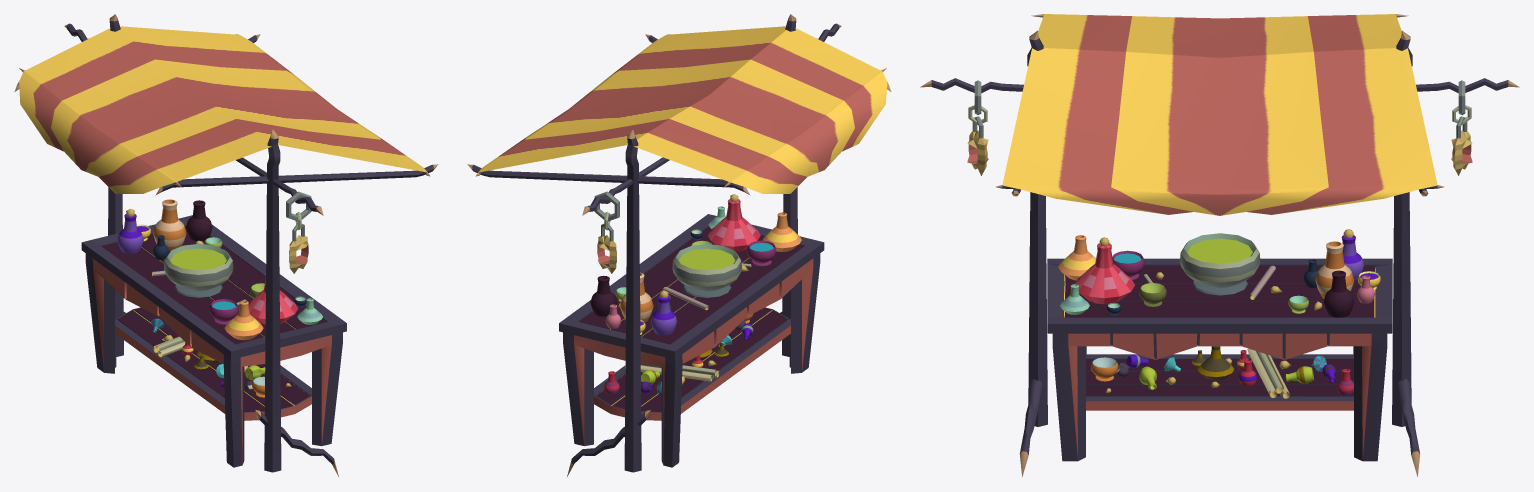
File: market stall.fbx
3 renders of one model, left to right at view 1: azimuth 30°, elevation 25°; view 2: azimuth 150°, elevation 25°; view 3: azimuth 270°, elevation 25°, orthographic. The views are drawn at different scales.
Visible parts, largest first — view 1: stall, bottles, lanterns, scrolls; view 2: stall, bottles, lanterns, scrolls; view 3: stall, bottles, lanterns, scrolls.
Part boxes in pixels (x1,y1,x2,y2): stall: [14, 14, 438, 476]; bottles: [117, 199, 322, 397]; lanterns: [88, 38, 311, 273]; scrolls: [152, 270, 246, 357]; stall: [467, 14, 891, 476]; bottles: [590, 199, 801, 394]; lanterns: [594, 38, 817, 273]; scrolls: [625, 263, 751, 381]; stall: [920, 14, 1519, 476]; bottles: [1058, 233, 1380, 395]; lanterns: [967, 80, 1472, 175]; scrolls: [1144, 265, 1289, 398].
Size of the model in its own units: 185 by 236 by 310.
